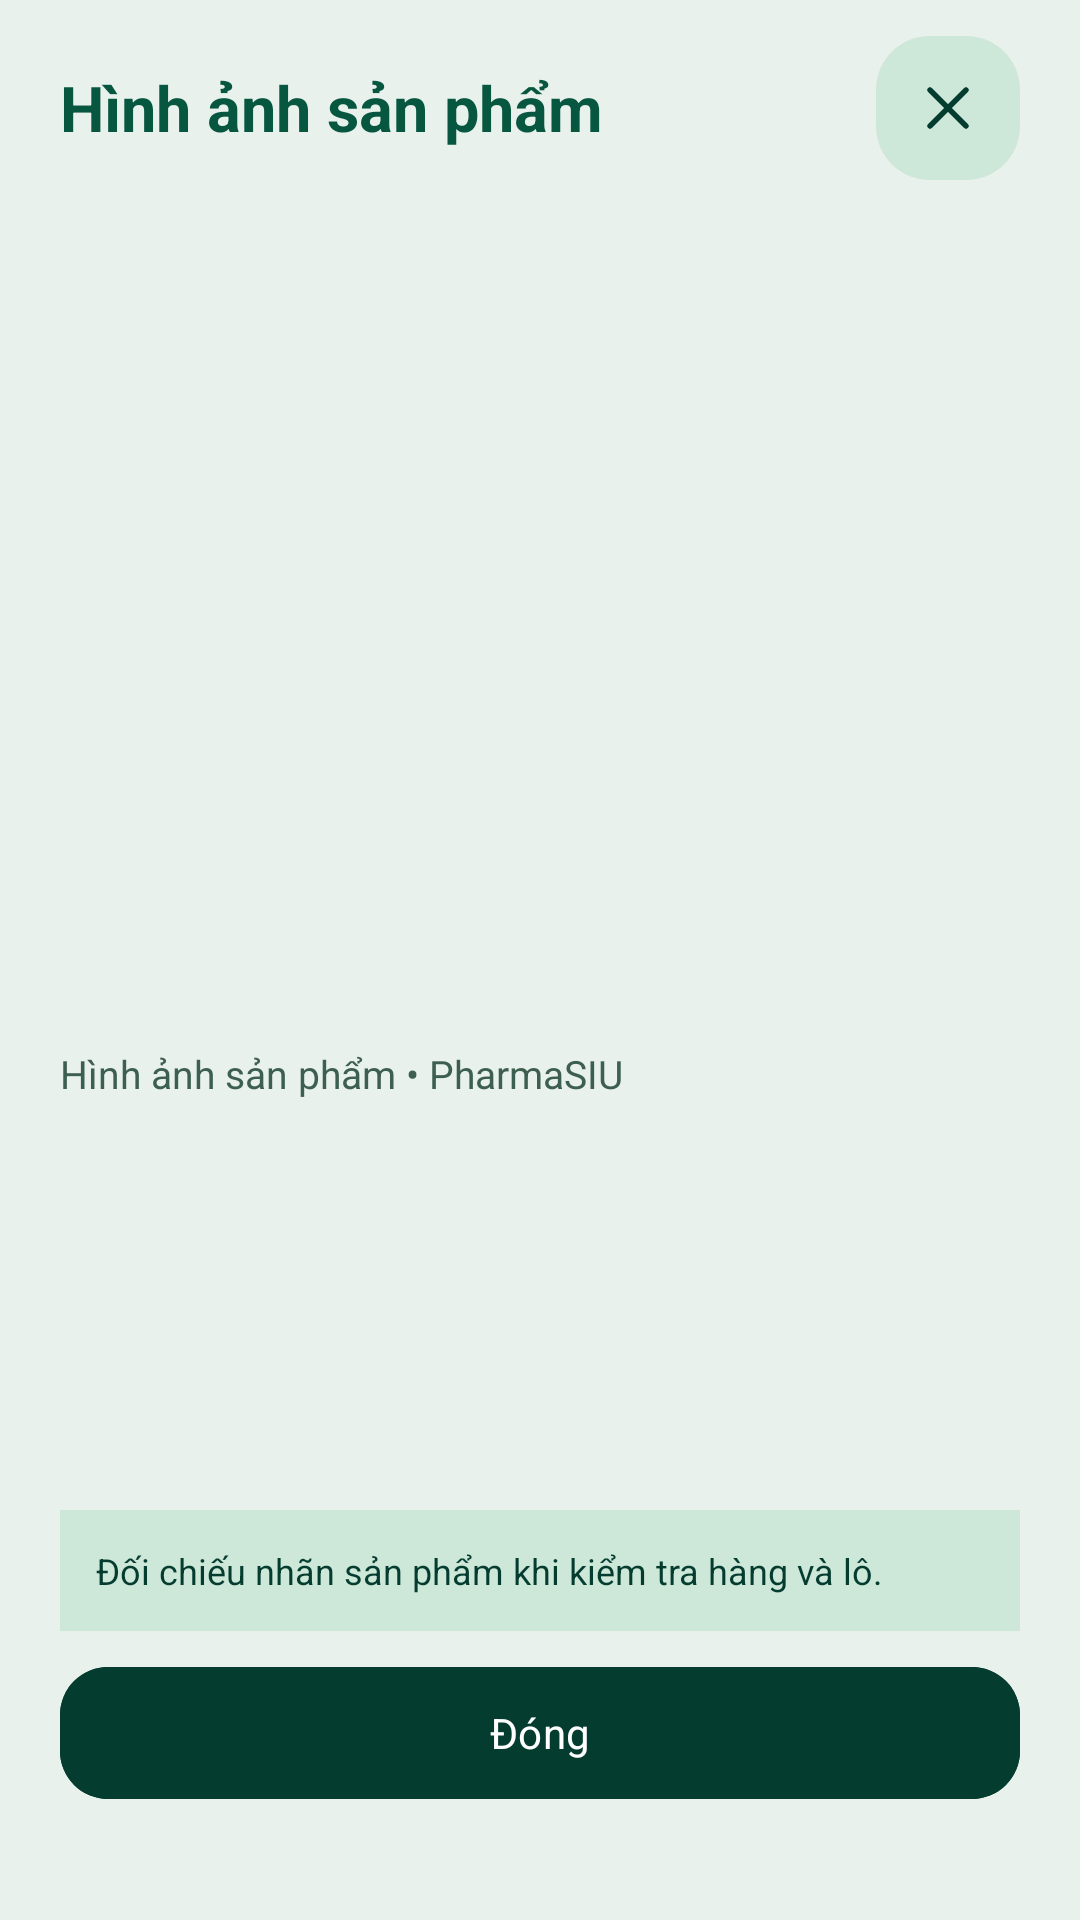

Icon click points for this 1080×1920 phone screenshot, format [x,y]:
Đóng xem hình sản phẩm: [948,108]
